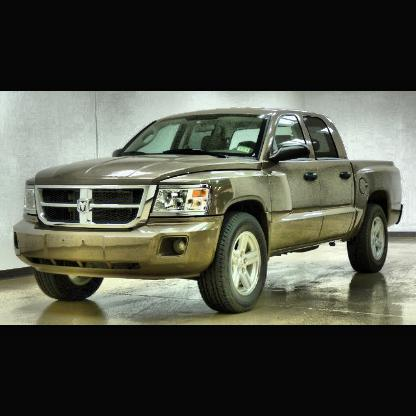Dodge Dakota Crew Cab 2010: (13, 109, 406, 314)
